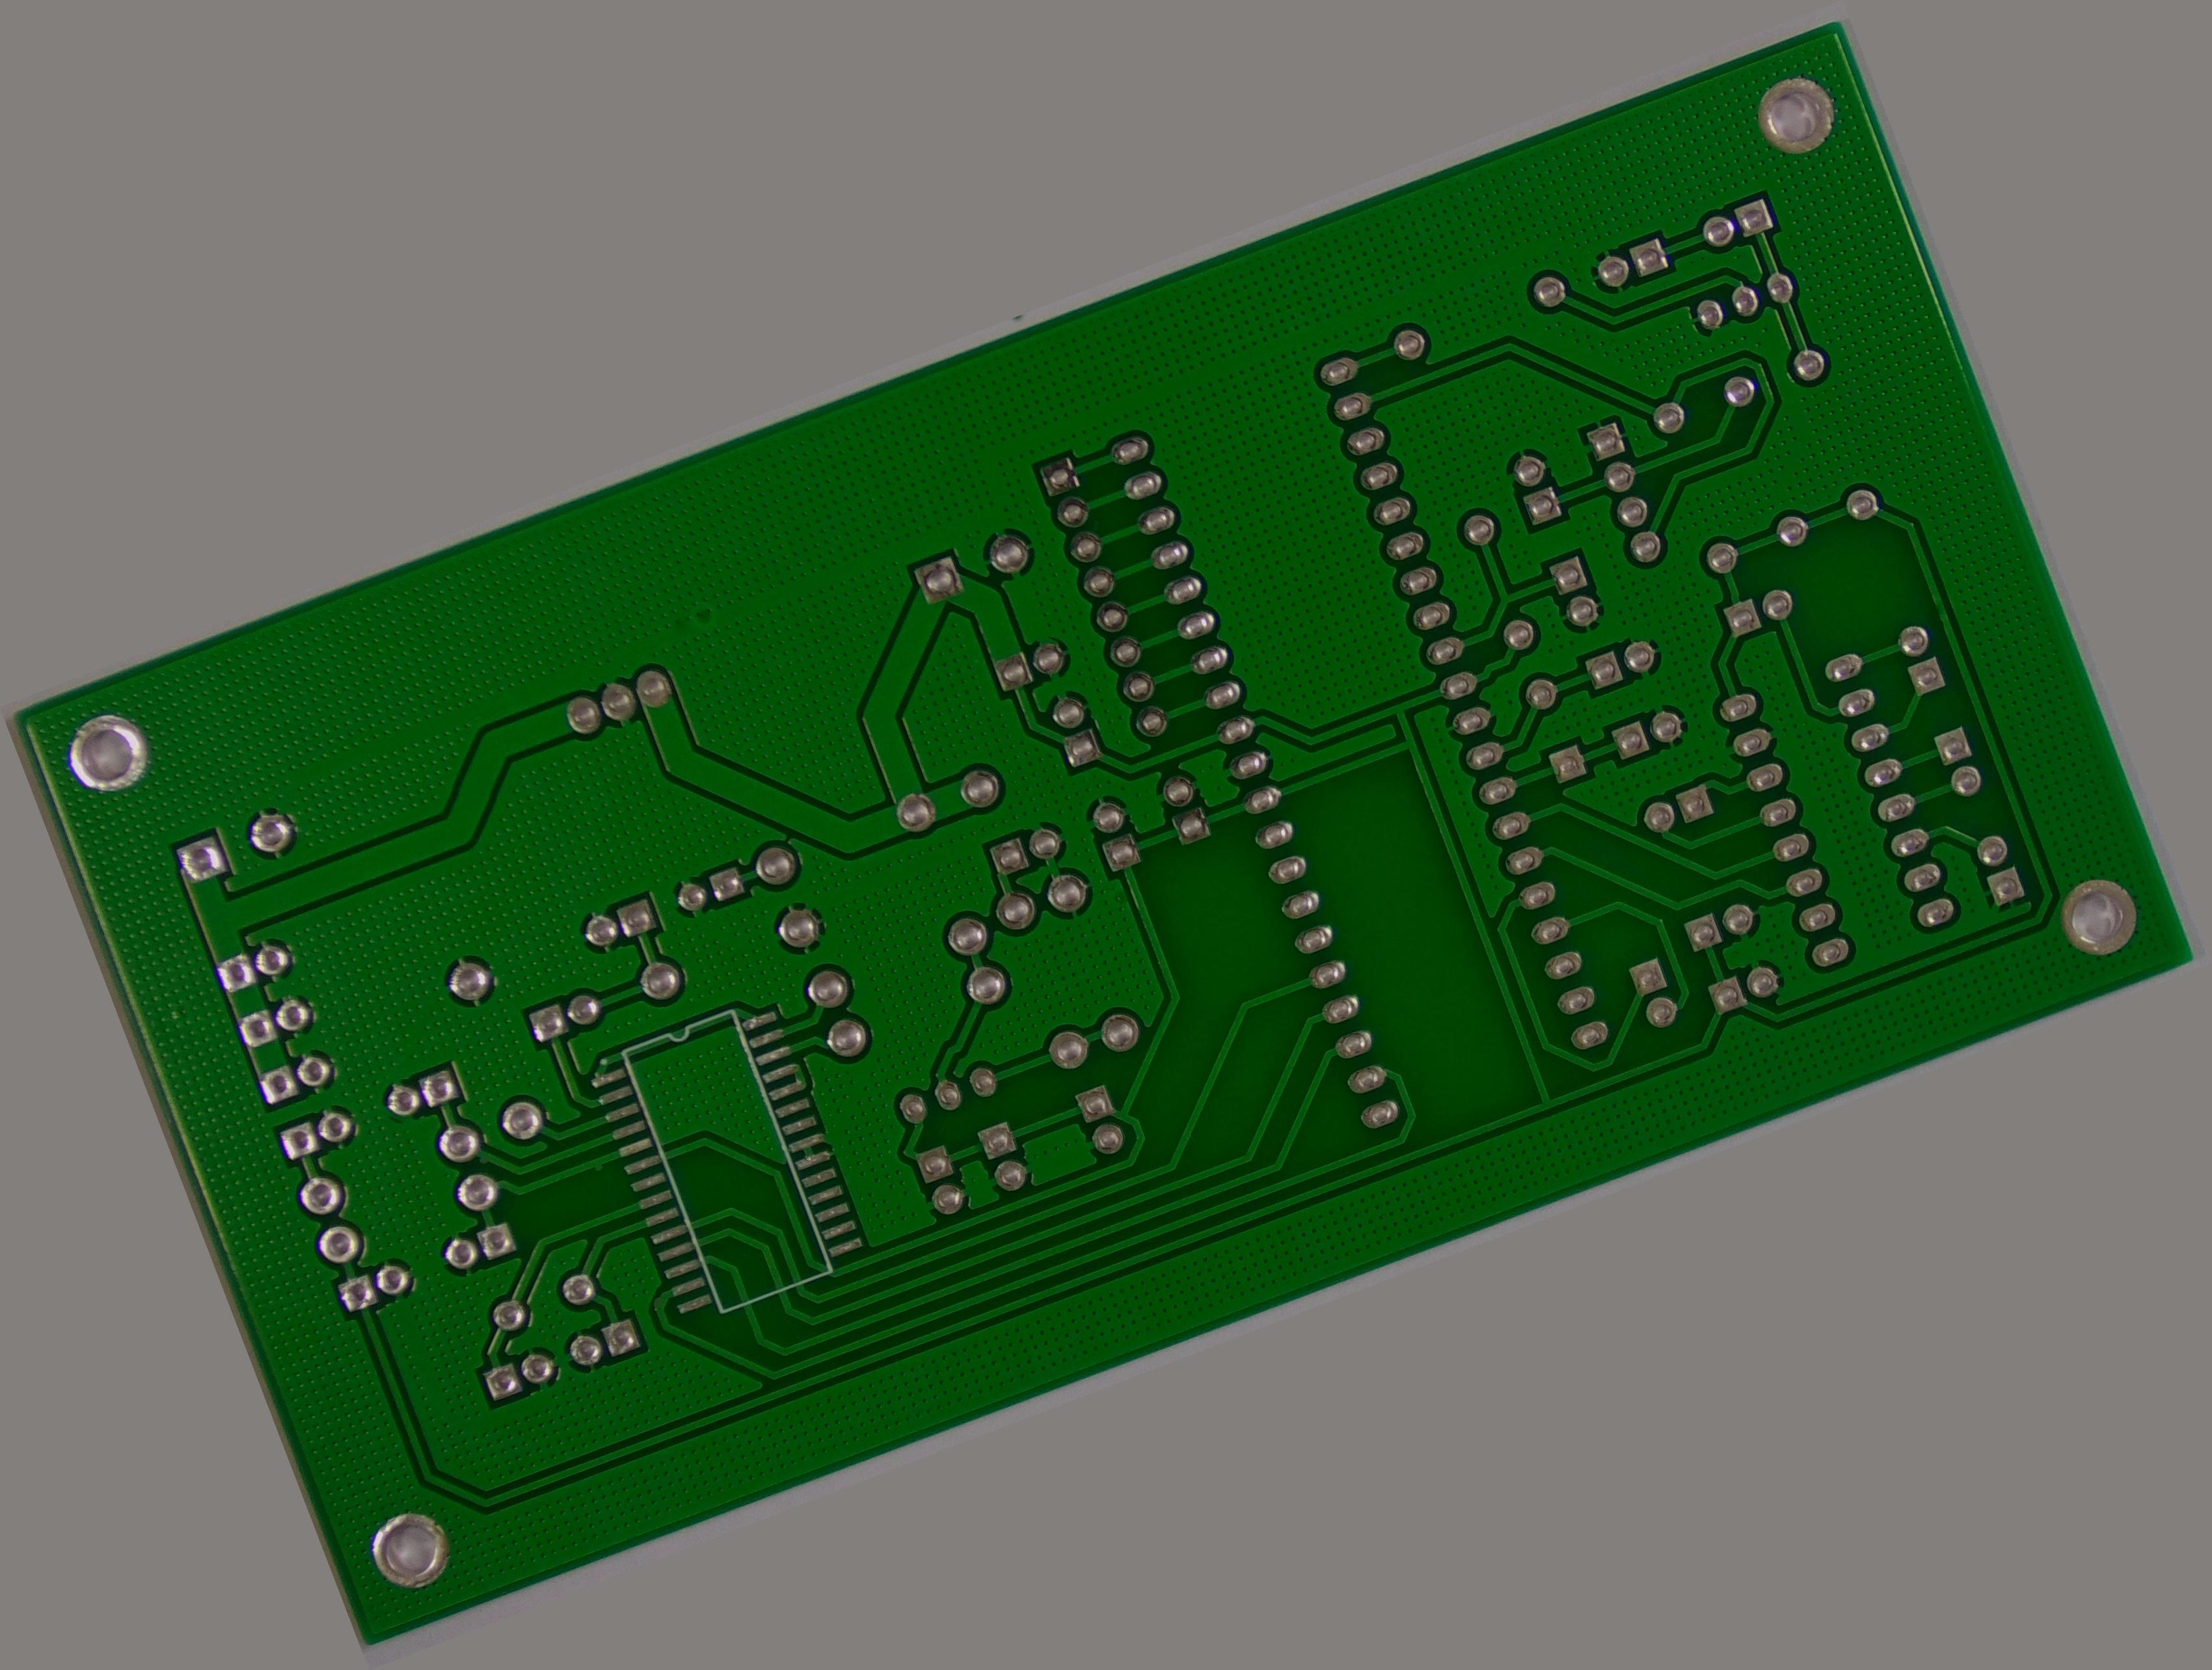spur: (644, 1282, 681, 1321), (584, 1151, 614, 1182)
